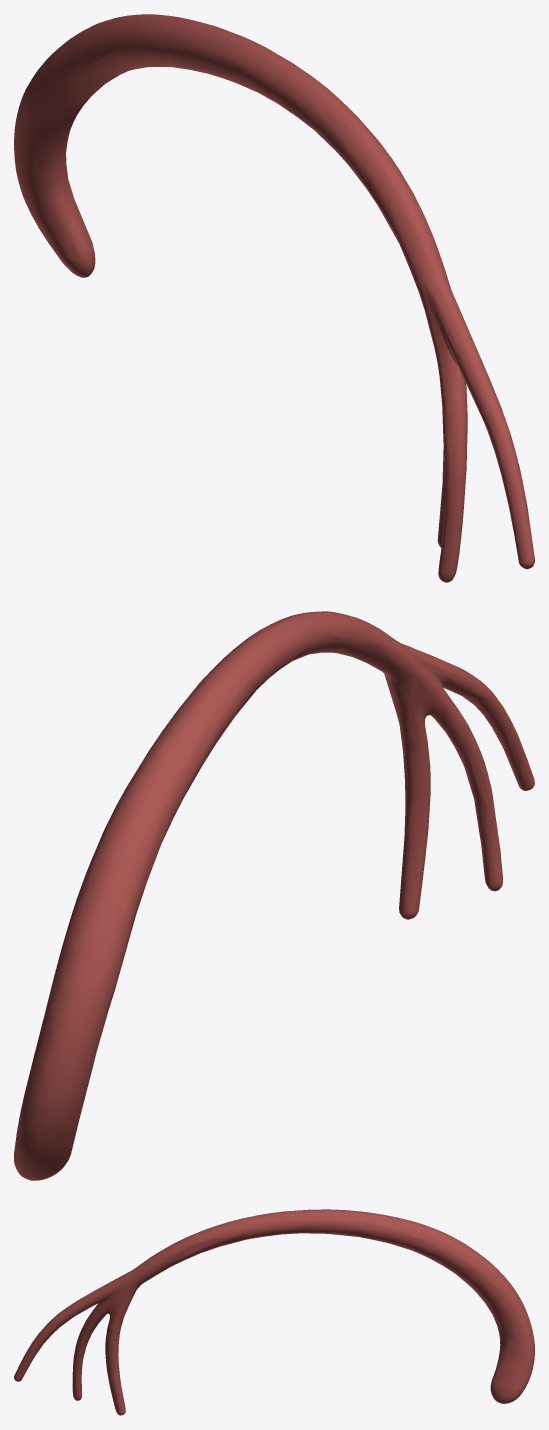
The model's file is FMA73413.glb.
The picture shows the model from 3 angles, top to bottom: view 1: azimuth 30°, elevation 25°; view 2: azimuth 150°, elevation 25°; view 3: azimuth 270°, elevation 25°; orthographic projection. The views are drawn at different scales.
Visible parts, largest first — view 1: FMA73413; view 2: FMA73413; view 3: FMA73413.
Boxes of the visible parts, bbox=[...] form: FMA73413: bbox=[14, 14, 534, 582]; FMA73413: bbox=[14, 611, 534, 1180]; FMA73413: bbox=[14, 1209, 534, 1415].
Bounding box in the file's own units: 0.00372 × 0.0148 × 0.0347.
